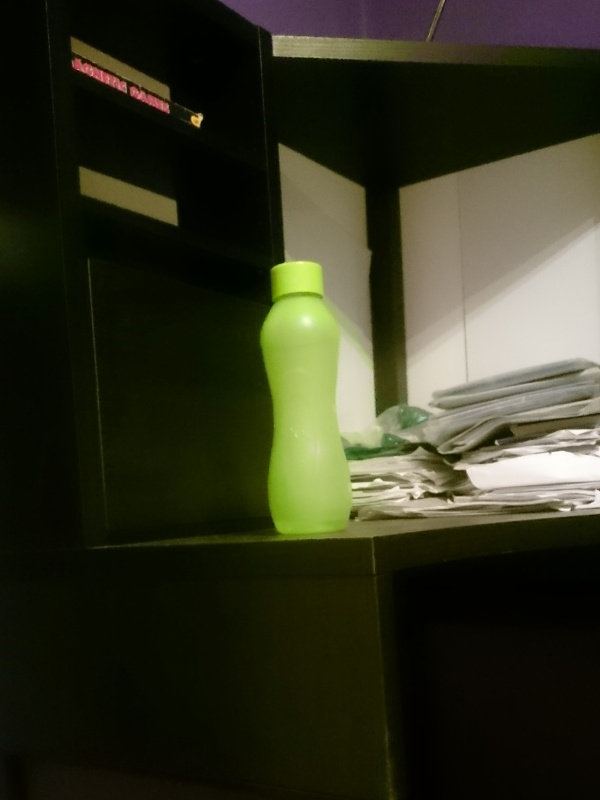my bottle: (260, 260, 350, 533)
